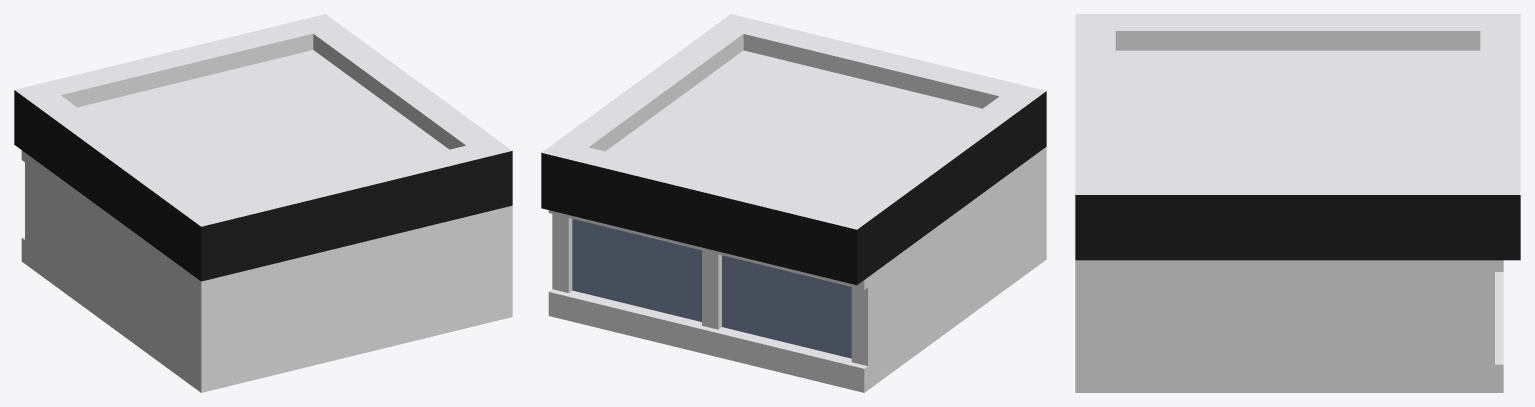
The model's file is Pist1.fbx.
3 renders of one model, left to right at view 1: azimuth 30°, elevation 25°; view 2: azimuth 150°, elevation 25°; view 3: azimuth 270°, elevation 25°, orthographic. The views are drawn at different scales.
Visible parts, largest first — view 1: pitsOffice; view 2: pitsOffice; view 3: pitsOffice.
Part boxes in pixels (box(x1,y1,x2,y2)): pitsOffice: box(14, 14, 512, 392); pitsOffice: box(541, 14, 1046, 392); pitsOffice: box(1075, 14, 1520, 392).
Bounding box in the file's own units: 1000 × 510 × 1040.
